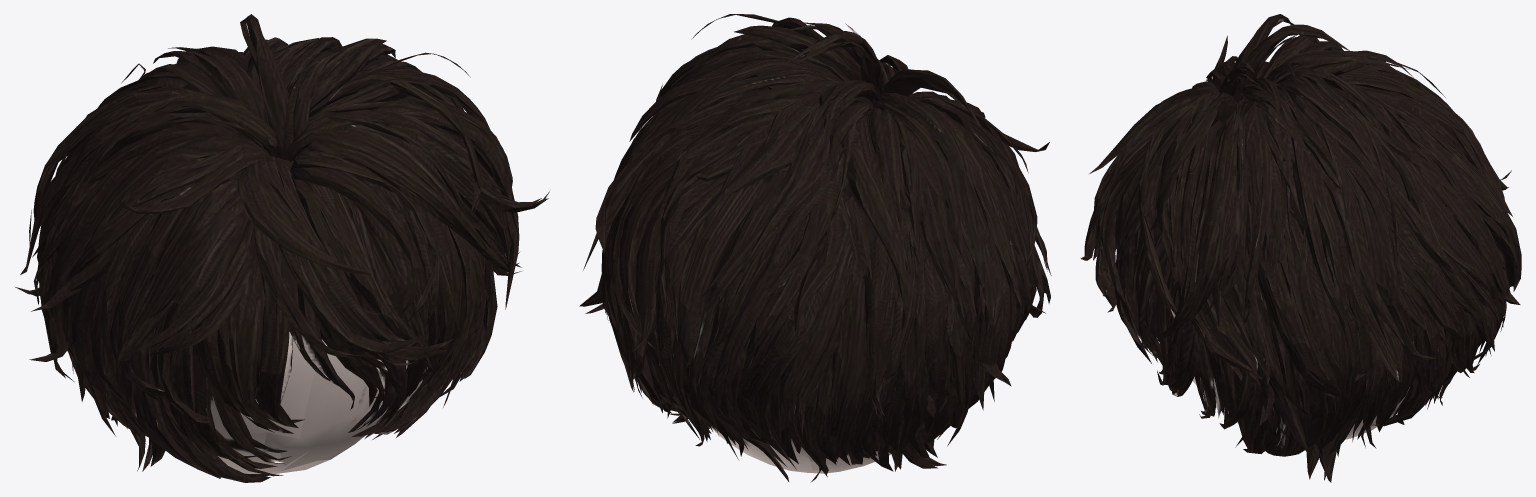
File: hair_test.glb
3 renders of one model, left to right at view 1: azimuth 30°, elevation 25°; view 2: azimuth 150°, elevation 25°; view 3: azimuth 270°, elevation 25°, orthographic. The views are drawn at different scales.
Size of the model in its own units: 1.86 by 1.7 by 1.7.
1 material, 1 textured.
